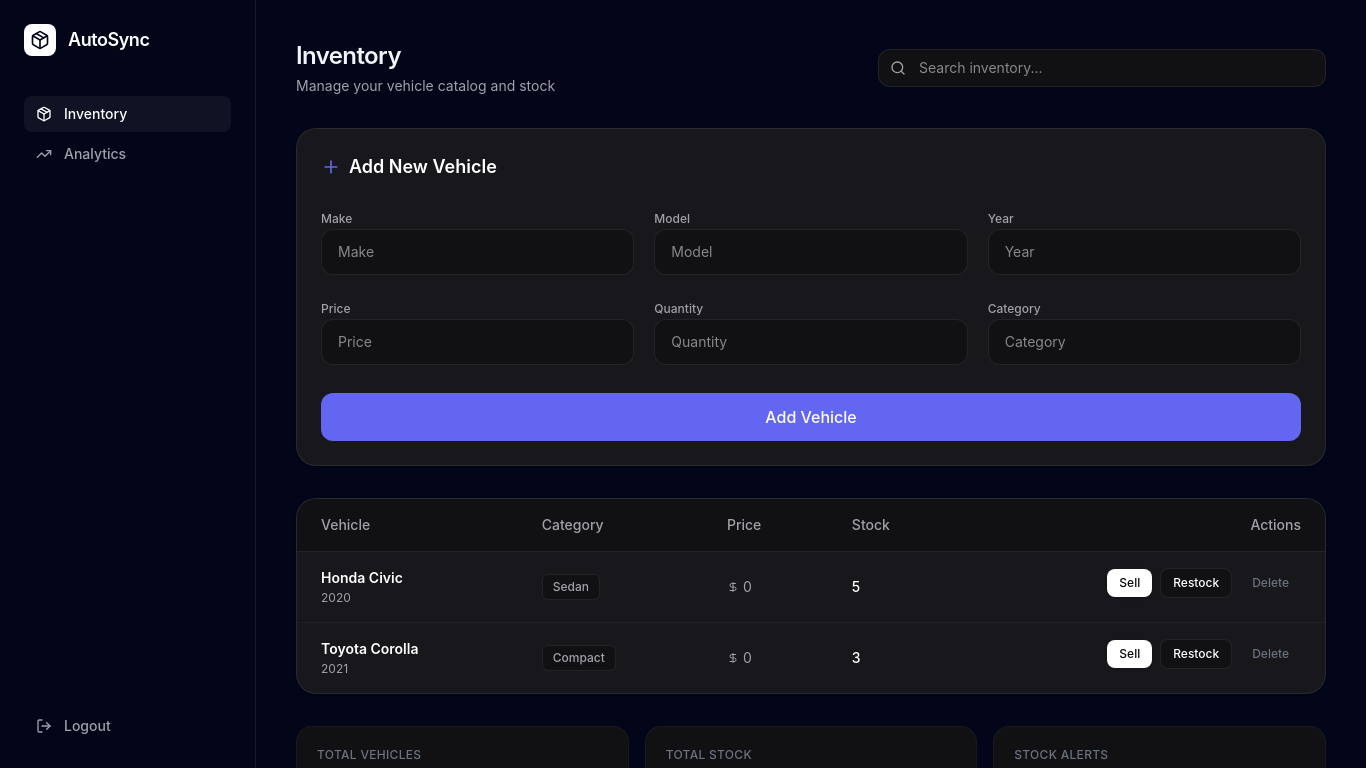
Dashboard Component › filters vehicles by search term
Expected: the text "Honda Civic" is shown, [321,569,403,586]
Expected: the text "Toyota Corolla" is shown, [321,640,418,657]
Type "Toyota" into the field with placeholder "Search inventory...". click: (1102, 68)
box: [878,49,1326,87]
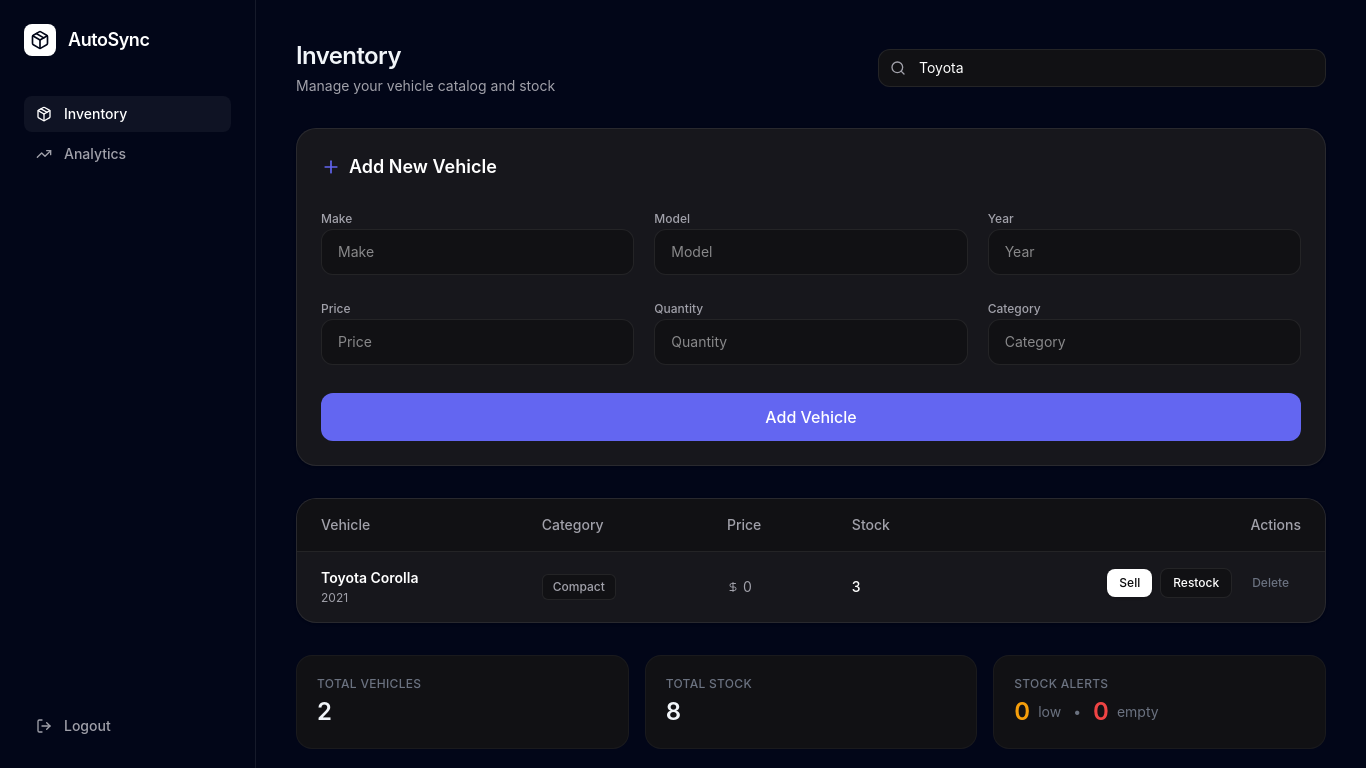
Expected: the text "Toyota Corolla" is shown, [321,569,418,586]
Expected: the text "Honda" is gone
